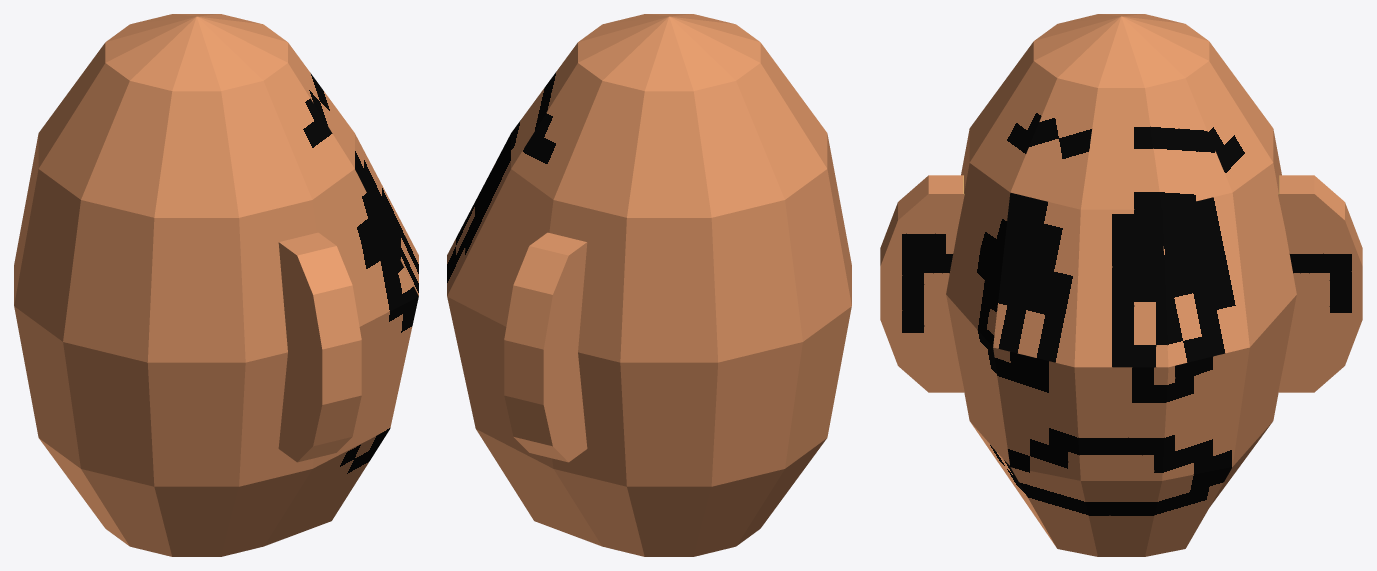
File: Genius Head.fbx
3 renders of one model, left to right at view 1: azimuth 30°, elevation 25°; view 2: azimuth 150°, elevation 25°; view 3: azimuth 270°, elevation 25°, orthographic. The views are drawn at different scales.
Visible parts, largest first — view 1: cylinder; view 2: cylinder; view 3: cylinder.
Boxes of the visible parts, box(x1,y1,x2,y2) form: cylinder: box(14, 14, 418, 556); cylinder: box(447, 14, 851, 556); cylinder: box(880, 14, 1362, 556).
Bounding box in the file's own units: 112 × 162 × 138.
1 material, 1 textured.
